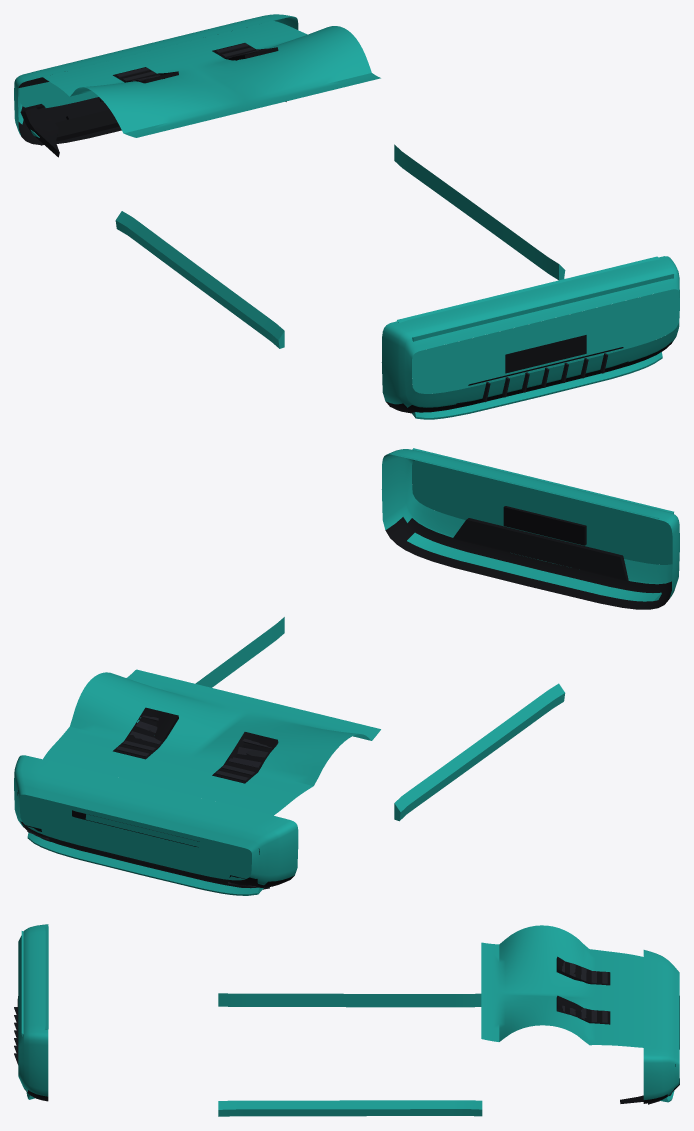
File: kit_street.glb
3 views of the same model, one above another, from view 1: azimuth 30°, elevation 25°; view 2: azimuth 150°, elevation 25°; view 3: azimuth 270°, elevation 25° (orthographic). The views are drawn at different scales.
Visible parts, largest first — view 1: hood__street, bumper_rear__street, bumper_front__street, skirts__street, spoiler__street; view 2: bumper_front__street, hood__street, bumper_rear__street, skirts__street, spoiler__street; view 3: hood__street, skirts__street, bumper_front__street, bumper_rear__street, spoiler__street.
Part boxes in pixels (x1,y1,x2,y2): hood__street: [43, 21, 380, 137]; bumper_rear__street: [381, 256, 679, 419]; bumper_front__street: [14, 14, 679, 393]; skirts__street: [115, 144, 565, 348]; spoiler__street: [397, 256, 673, 341]; bumper_front__street: [14, 460, 672, 895]; hood__street: [43, 669, 380, 815]; bumper_rear__street: [381, 449, 679, 609]; skirts__street: [195, 617, 565, 821]; spoiler__street: [397, 448, 673, 518]; hood__street: [481, 925, 643, 1047]; skirts__street: [218, 993, 482, 1116]; bumper_front__street: [620, 950, 679, 1104]; bumper_rear__street: [14, 924, 48, 1101]; spoiler__street: [21, 926, 48, 1036].
Size of what is drawn, in the model's own units: 1.93 by 0.6789 by 4.75.
